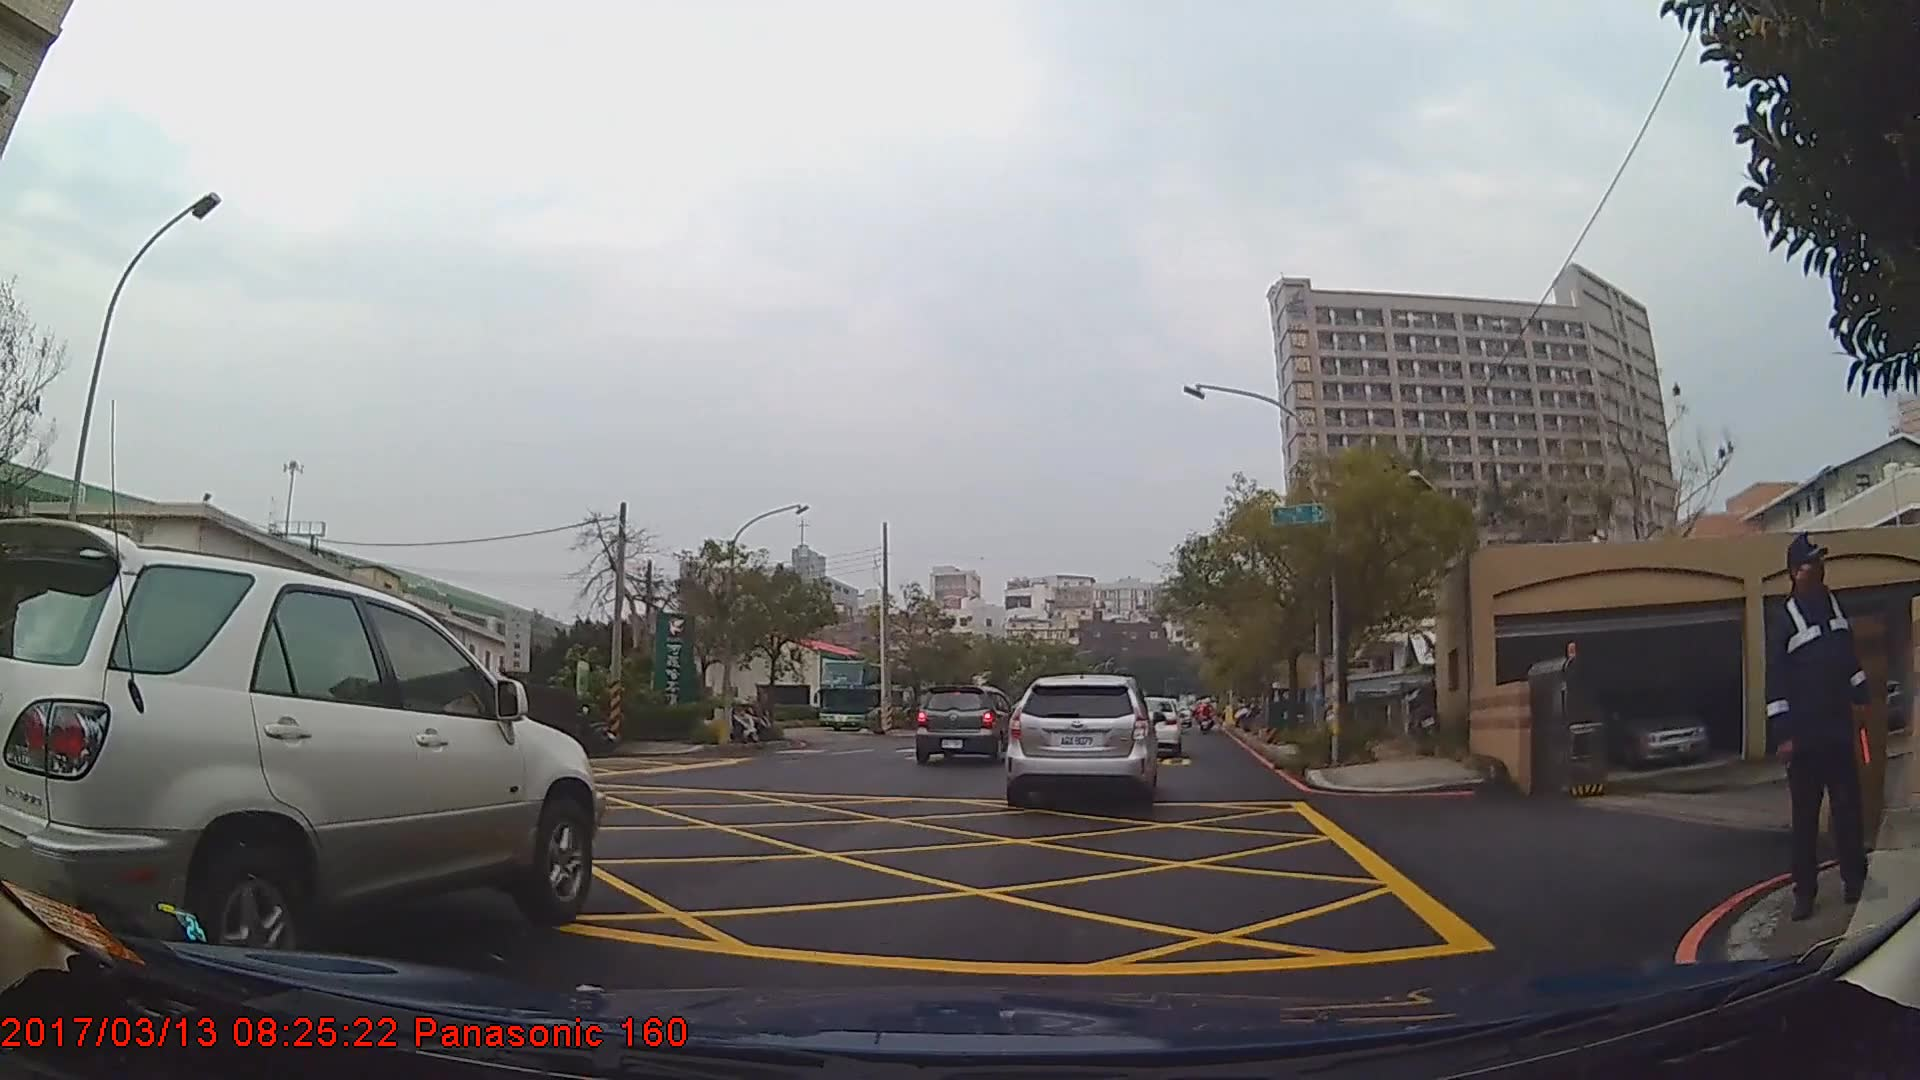pedestrian: (1763, 529, 1885, 932)
vehicle: (0, 513, 602, 989), (1002, 670, 1159, 808), (1597, 683, 1716, 763), (913, 680, 1017, 764), (816, 656, 917, 731), (1121, 692, 1183, 756)
